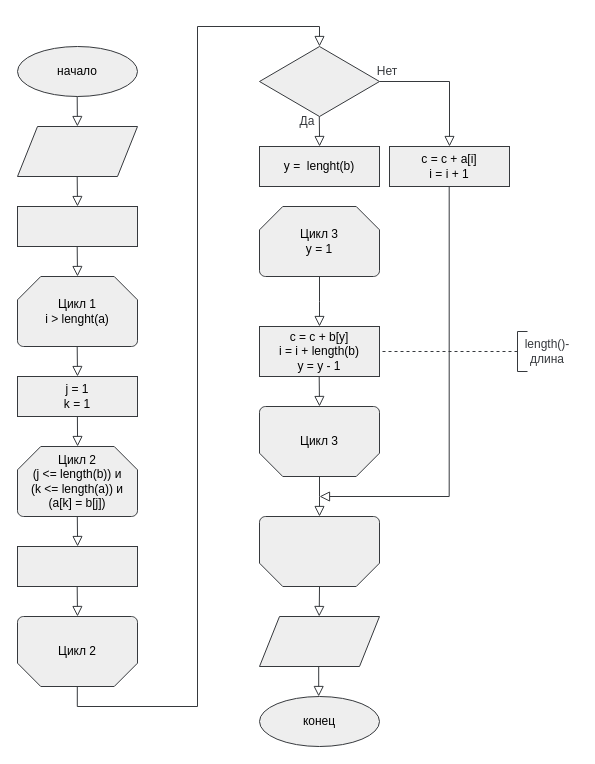
The diagram is 595 pixels wide and 764 high, and some of its shapes have lost their labels. Each missing label, with the box of its shape:
i = 1: (16, 206, 138, 246)
j = j + 1 k = k + 1: (16, 546, 138, 586)
j > length(b): (258, 46, 380, 116)
Ввод a,b: (16, 126, 138, 176)
Вывод c: (258, 616, 380, 666)
Цикл 1: (258, 516, 380, 586)
